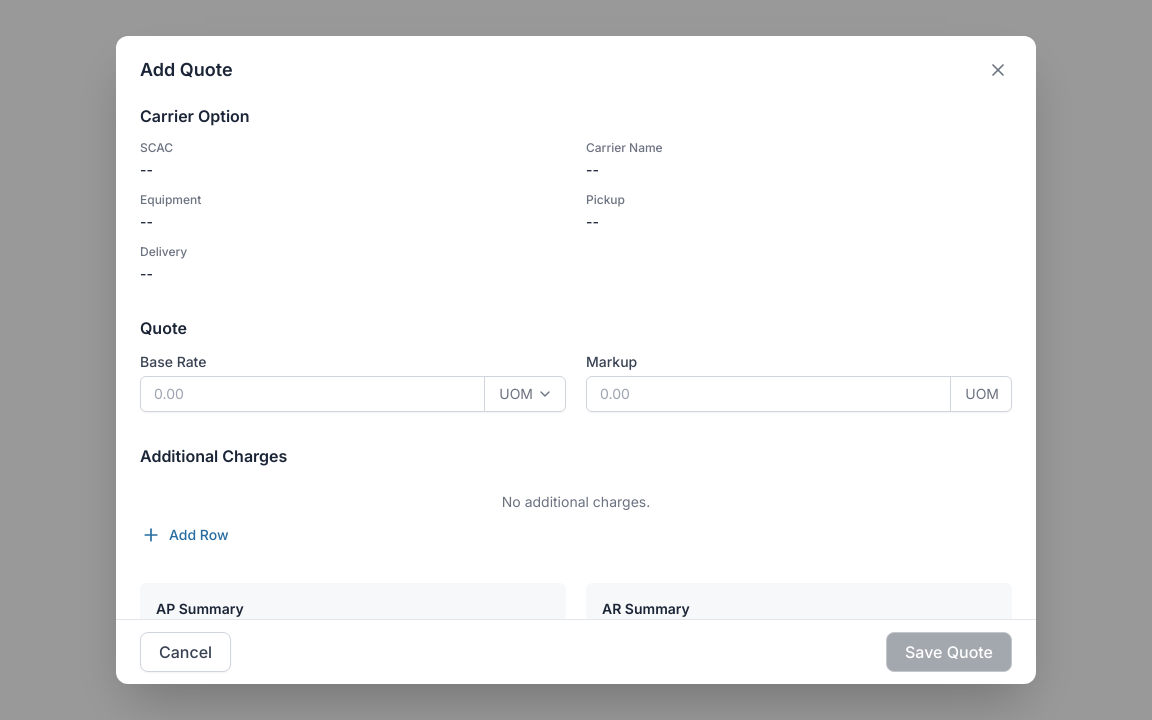
QuoteModal › empty state, then Add Row opens an editable charge line
Check: the text "No additional charges." is shown, box left=502, top=493, right=650, bottom=510
Click the button "Add Row". click: click(185, 535)
box: left=140, top=524, right=230, bottom=546
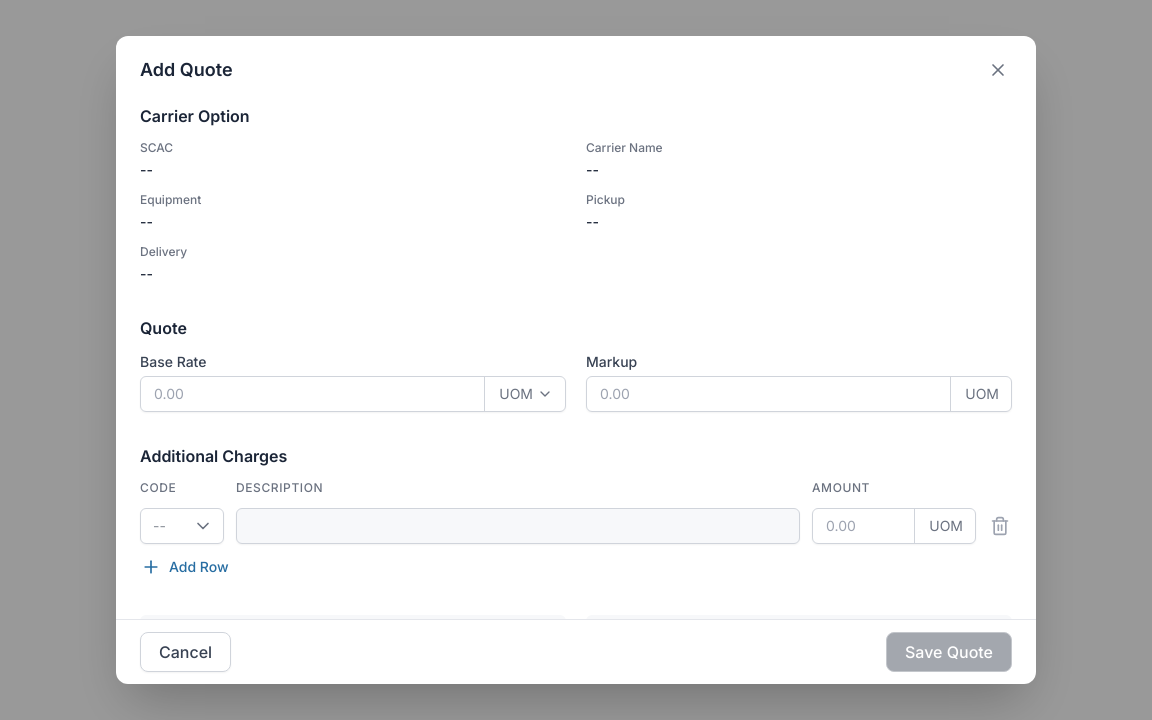
Check: the text "No additional charges." is gone
Check: the button named "Remove charge 1" is shown, box left=988, top=516, right=1012, bottom=536
